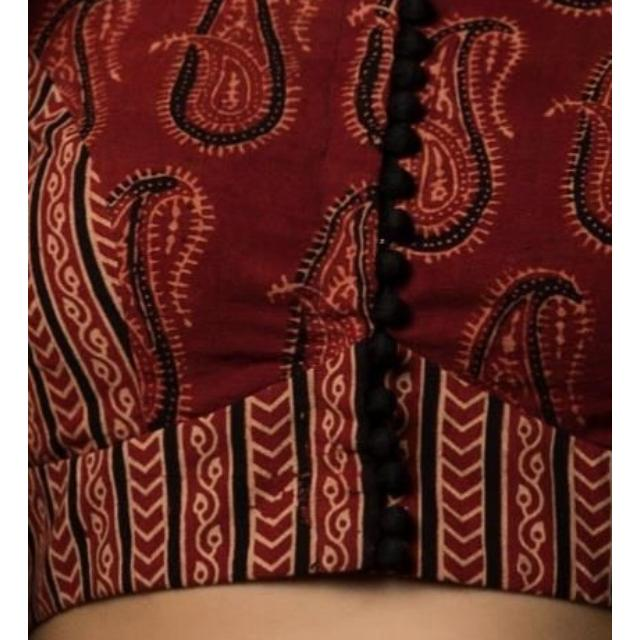cotton: (28, 1, 612, 582)
